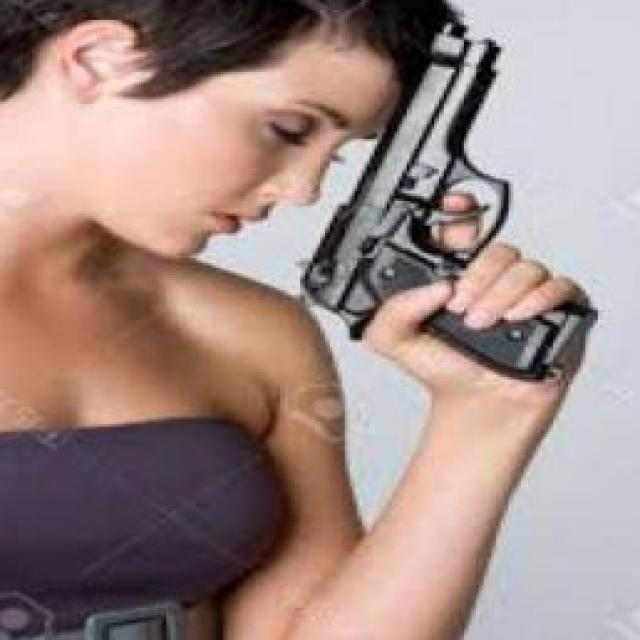pistol: (301, 20, 598, 379)
